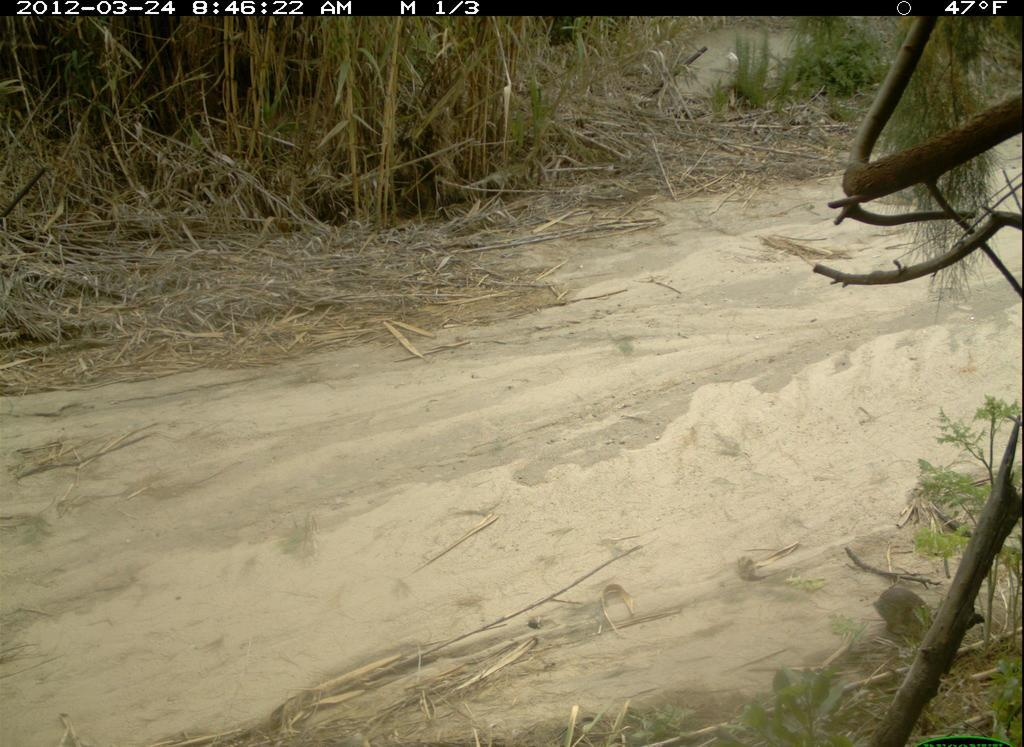rabbit: (868, 575, 959, 652)
